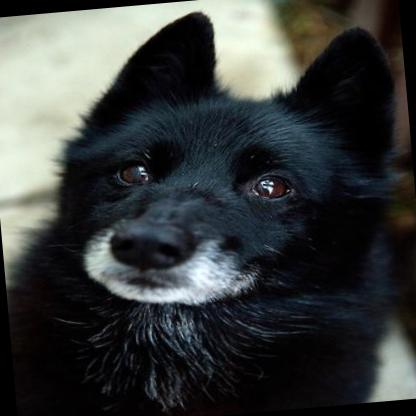schipperke: (0, 0, 408, 416)
